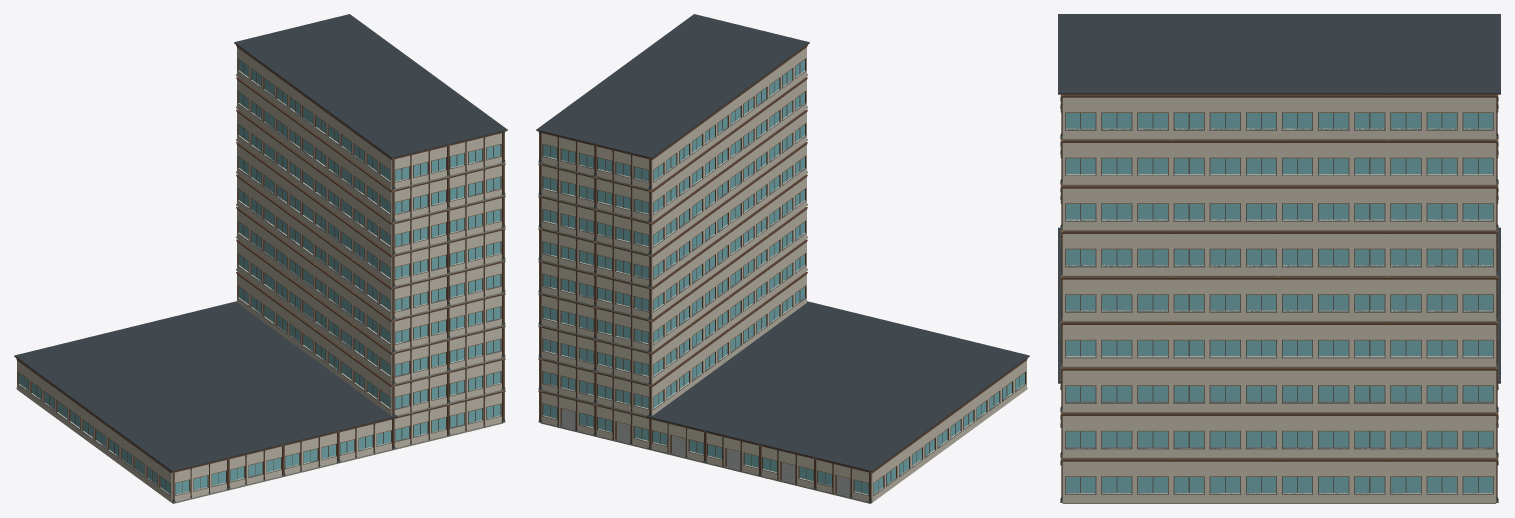
The model's file is visual-far.glb.
3 views of the same model, side by side, from view 1: azimuth 30°, elevation 25°; view 2: azimuth 150°, elevation 25°; view 3: azimuth 270°, elevation 25° (orthographic). The views are drawn at different scales.
Visible parts, largest first — view 1: 参数墙 · 独立窗玻璃 (×58), 连续屋面 · flat (×2); view 2: 参数墙 · 独立窗玻璃 (×52), 连续屋面 · flat (×2), 参数墙 · 通行门洞 (×6); view 3: 参数墙 · 独立窗玻璃 (×36), 连续屋面 · flat (×2).
Part boxes in pixels (left/top/right/bottom): 参数墙 · 独立窗玻璃 (×58): left=16, top=46, right=502, bottom=502; 连续屋面 · flat (×2): left=14, top=14, right=507, bottom=472; 参数墙 · 独立窗玻璃 (×52): left=541, top=46, right=1027, bottom=502; 连续屋面 · flat (×2): left=536, top=14, right=1029, bottom=472; 参数墙 · 通行门洞 (×6): left=541, top=391, right=869, bottom=501; 参数墙 · 独立窗玻璃 (×36): left=1062, top=94, right=1496, bottom=502; 连续屋面 · flat (×2): left=1058, top=14, right=1500, bottom=383.
Size of the model in its own units: 47.6 by 39.92 by 38.8.
Materials: 15 (15 with a texture image).
